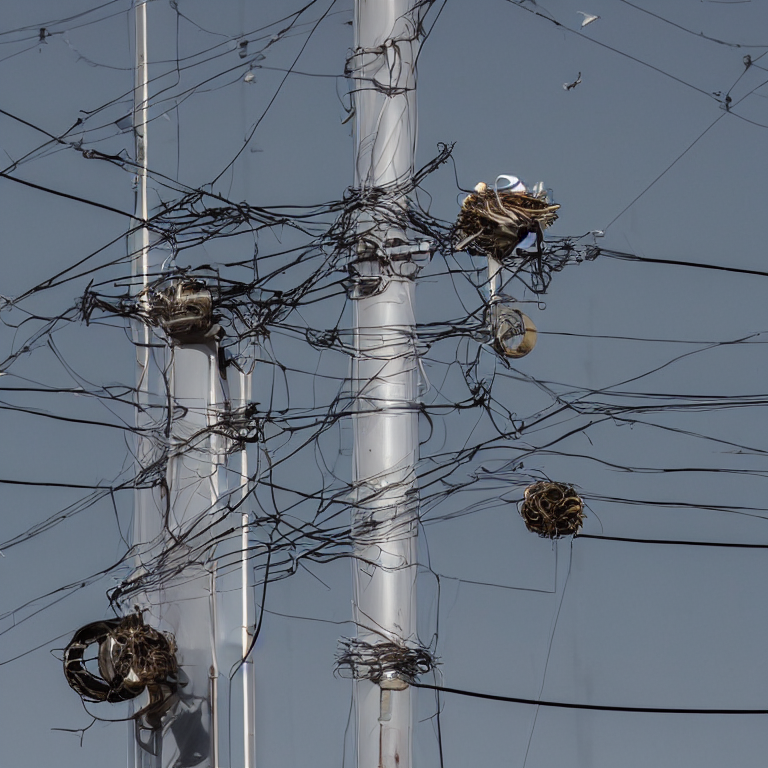nest: (466, 194, 554, 255), (525, 482, 580, 536), (125, 630, 176, 682)
